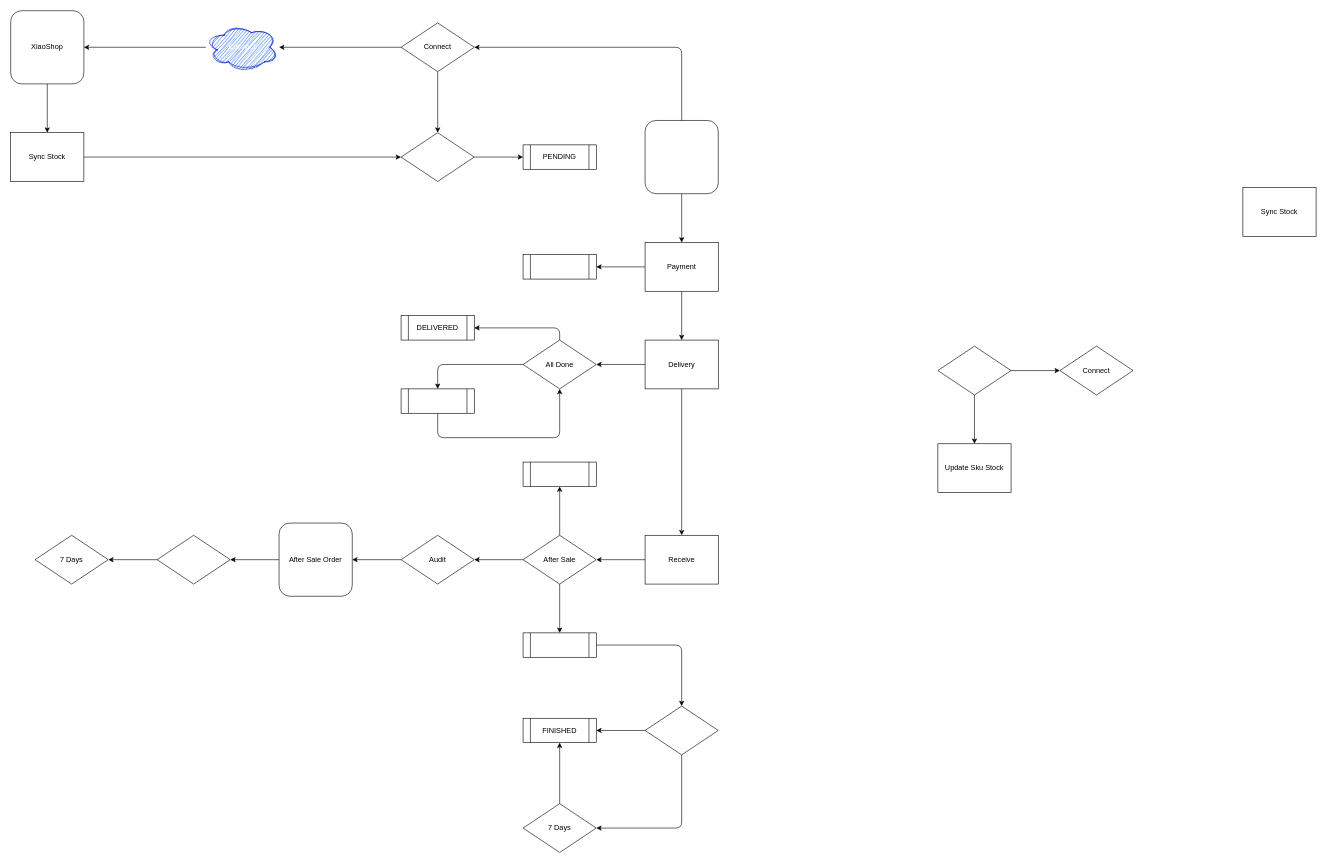
This 1327x863 diagram has some shape labels left out. Each missing label, with the centre of its shape:
"AFTER_SALE" goes at (559,473).
"Comment" goes at (681,730).
"Deduct Stock" goes at (974,370).
"Order" goes at (681,157).
"PAID" goes at (559,266).
"PARTIAL" goes at (437,400).
"RECEIVED" goes at (559,644).
"Return" goes at (193,559).
"Sold Out" goes at (437,156).
